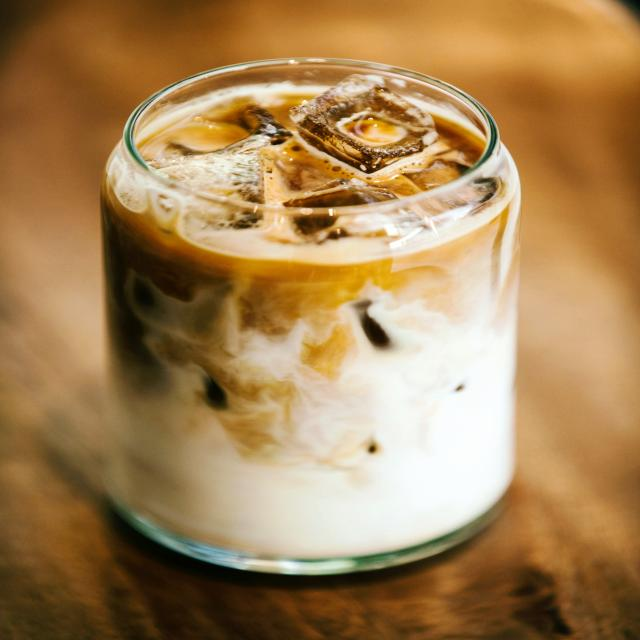drink: (96, 61, 525, 579)
